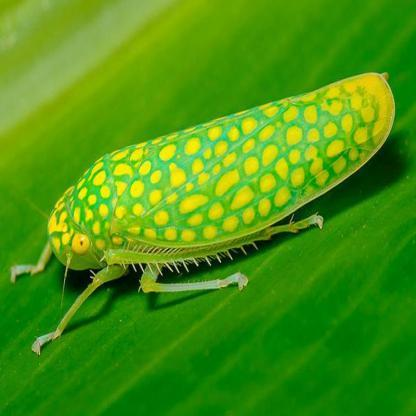green-leafhopper: (43, 72, 398, 273)
